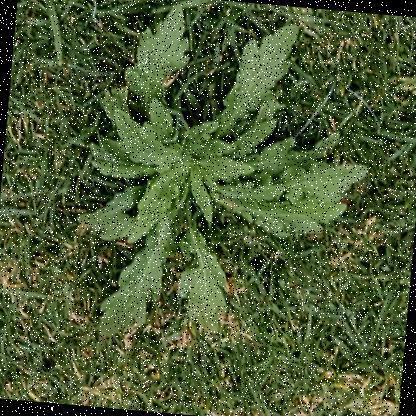Weeds: (66, 0, 383, 363)
